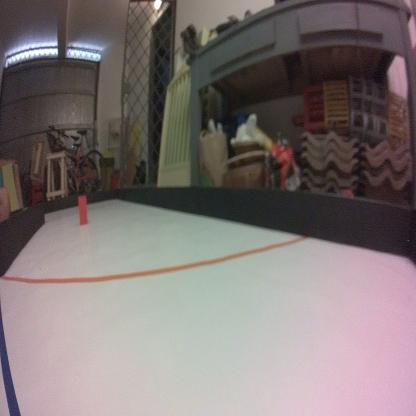red: (77, 195, 87, 226)
